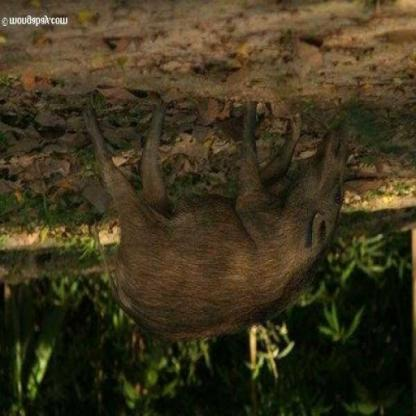boar: (57, 86, 380, 361)
